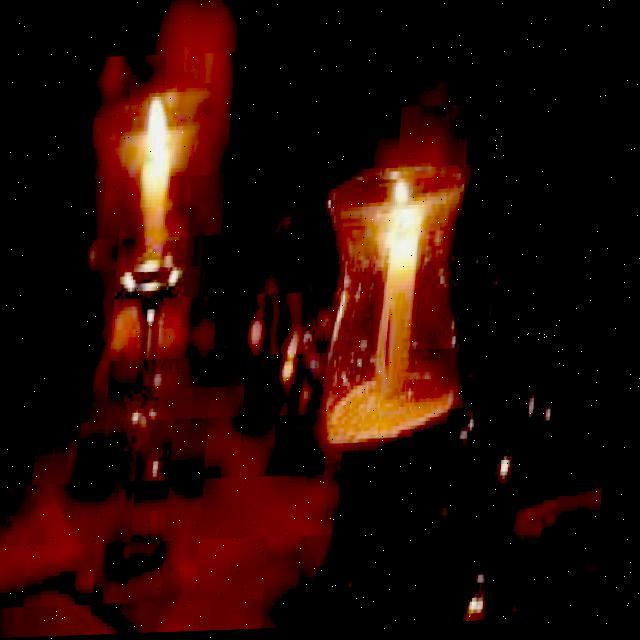Fire: (140, 82, 179, 163), (386, 170, 426, 240)
